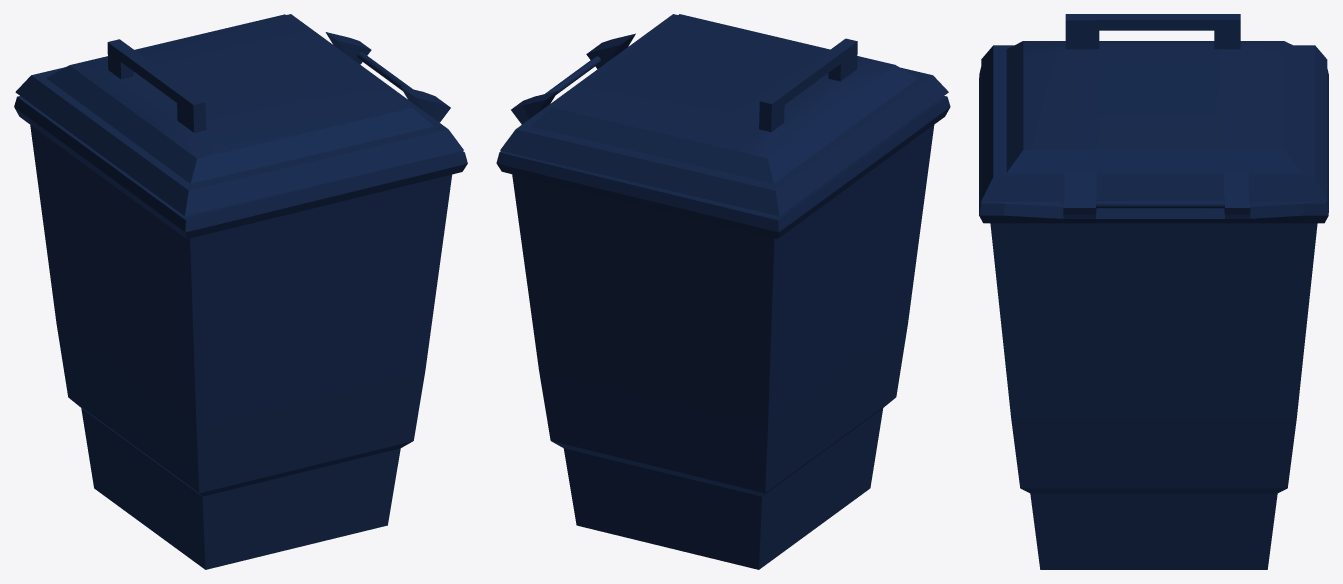
The model's file is trash_blue.FBX.
3 renders of one model, left to right at view 1: azimuth 30°, elevation 25°; view 2: azimuth 150°, elevation 25°; view 3: azimuth 270°, elevation 25°, orthographic. The views are drawn at different scales.
Visible parts, largest first — view 1: Box001, Box002; view 2: Box001, Box002; view 3: Box001, Box002, Cylinder001.
Part boxes in pixels (box(x1,y1,x2,y2)): Box001: box(14, 32, 467, 569); Box002: box(15, 14, 463, 216); Box001: box(496, 33, 950, 569); Box002: box(500, 14, 948, 216); Box001: box(979, 67, 1328, 569); Box002: box(981, 14, 1327, 201); Cylinder001: box(1096, 200, 1224, 208).
Bounding box in the file's own units: 41.51 × 58.88 × 40.14.
